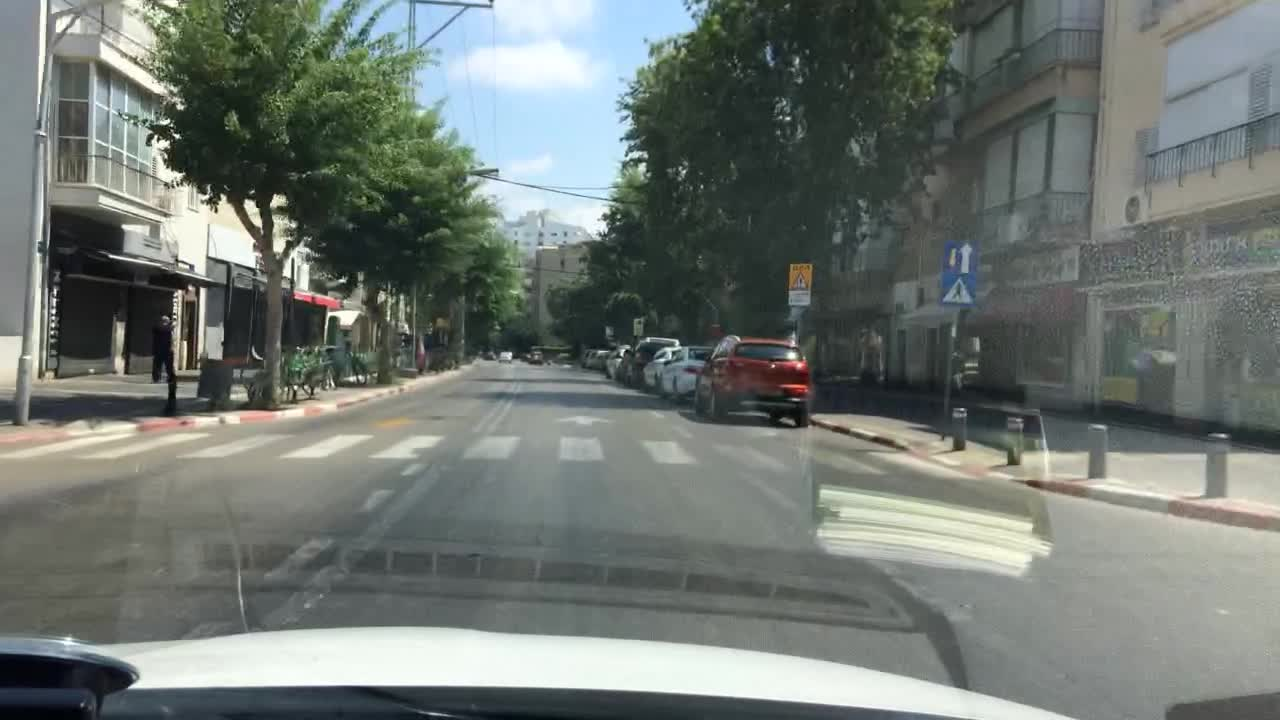bike: (240, 345, 295, 404), (250, 355, 315, 400), (288, 344, 339, 395), (344, 351, 378, 383)
car: (696, 333, 813, 427), (616, 335, 677, 391), (658, 346, 713, 401), (286, 345, 361, 385), (643, 346, 683, 394), (604, 343, 632, 381), (587, 348, 613, 372), (579, 348, 597, 369), (528, 350, 545, 364), (481, 348, 498, 360), (498, 350, 513, 362), (521, 350, 529, 361)
person: (151, 314, 178, 421), (417, 336, 426, 374)
traffic sign: (940, 235, 976, 305), (787, 263, 809, 304), (632, 316, 642, 338), (603, 324, 615, 336)
